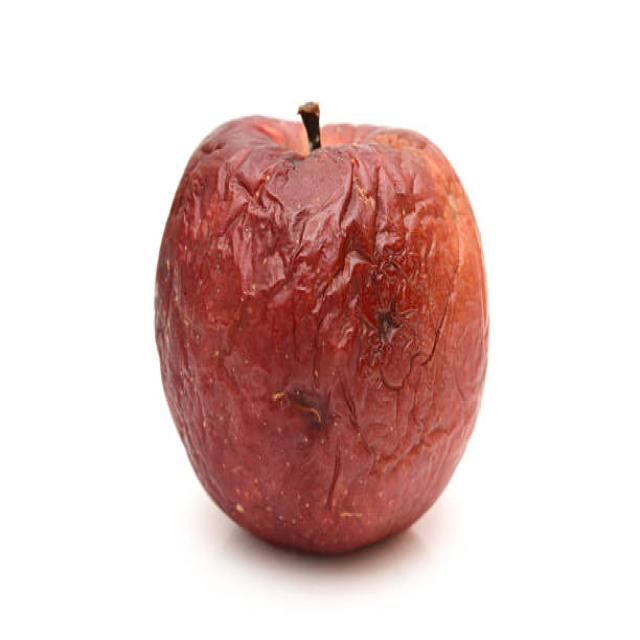overripe: (147, 94, 494, 563)
